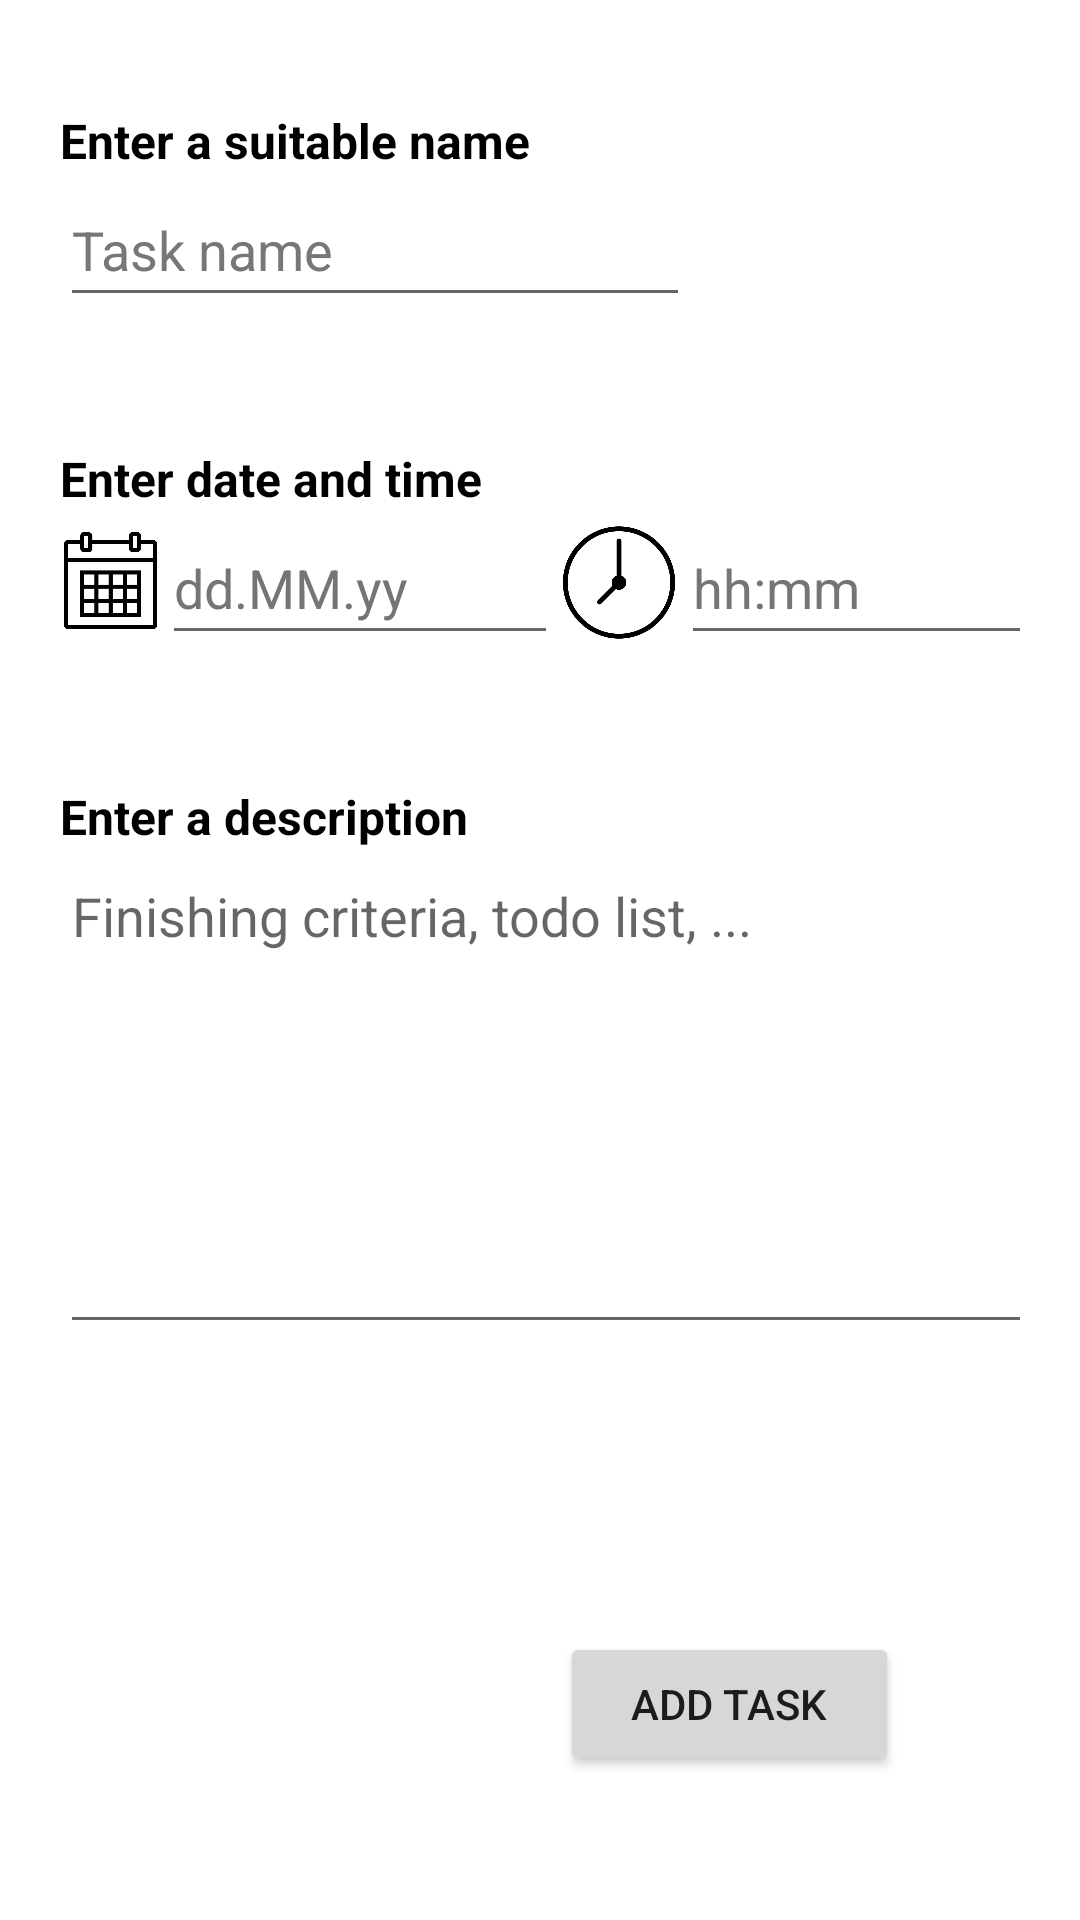

Point at icon controls on the screen. Image size 1080px×1920px, points as (x,y).
calendar: (110,580)
clock: (619,582)
